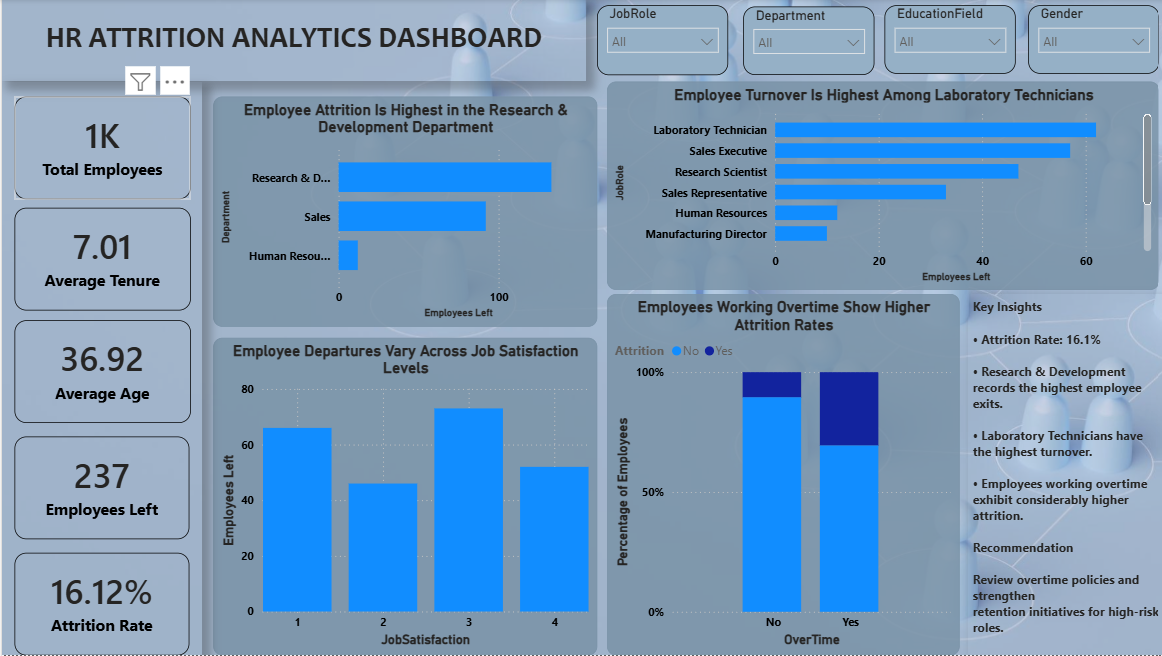

The page's visual inventory and layout, read from the dashboard file:
{"tool":"powerbi","page":{"name":"Page 1","canvas":[1280,720],"ordinal":0},"visuals":[{"type":"image","box":[0,0,1280.3,720.4],"z":0},{"type":"cardVisual","fields":{"Data":["WA_Fn-UseC_-HR-Employee-Attrition.Attrition Rate"]},"box":[13.7,607.9,192.1,112.5],"z":2000},{"type":"textbox","box":[0,0,640.8,90.6],"z":2500},{"type":"clusteredBarChart","title":"Employee Attrition Is Highest in the Research & Development Department","fields":{"Category":["WA_Fn-UseC_-HR-Employee-Attrition.Department"],"Y":["WA_Fn-UseC_-HR-Employee-Attrition.Employees Left"]},"box":[231.9,107,421.3,252.5],"z":3000},{"type":"barChart","title":"Employee Turnover Is Highest Among Laboratory Technicians","fields":{"Category":["WA_Fn-UseC_-HR-Employee-Attrition.JobRole"],"Y":["WA_Fn-UseC_-HR-Employee-Attrition.Employees Left"]},"box":[664.2,90.6,606.5,229.2],"z":4000},{"type":"hundredPercentStackedColumnChart","title":"Employees Working Overtime Show Higher Attrition Rates","fields":{"Category":["WA_Fn-UseC_-HR-Employee-Attrition.OverTime"],"Series":["WA_Fn-UseC_-HR-Employee-Attrition.Attrition"],"Y":["WA_Fn-UseC_-HR-Employee-Attrition.Employee Count"]},"box":[664.2,323.8,387,396.6],"z":5000},{"type":"slicer","fields":{"Values":["WA_Fn-UseC_-HR-Employee-Attrition.Department"]},"box":[813.7,8.2,144.1,75.5],"z":6000},{"type":"slicer","fields":{"Values":["WA_Fn-UseC_-HR-Employee-Attrition.JobRole"]},"box":[653.2,6.9,144.1,76.8],"z":7000},{"type":"slicer","fields":{"Values":["WA_Fn-UseC_-HR-Employee-Attrition.Gender"]},"box":[1126.6,6.9,144.1,75.5],"z":8000},{"type":"slicer","fields":{"Values":["WA_Fn-UseC_-HR-Employee-Attrition.EducationField"]},"box":[968.8,6.9,144.1,75.5],"z":9000},{"type":"clusteredColumnChart","title":"Employee Departures Vary Across Job Satisfaction Levels","fields":{"Category":["WA_Fn-UseC_-HR-Employee-Attrition.JobSatisfaction"],"Y":["WA_Fn-UseC_-HR-Employee-Attrition.Employees Left"]},"box":[231.9,371.9,421.3,348.5],"z":10000},{"type":"shape","box":[0,90.6,219.6,629.8],"z":11000},{"type":"cardVisual","fields":{"Data":["WA_Fn-UseC_-HR-Employee-Attrition.Total Employees"]},"box":[13.7,107,193.5,112.5],"z":12000},{"type":"cardVisual","fields":{"Data":["WA_Fn-UseC_-HR-Employee-Attrition.Average Tenure"]},"box":[13.7,229.2,193.5,112.5],"z":13000},{"type":"cardVisual","fields":{"Data":["WA_Fn-UseC_-HR-Employee-Attrition.Average Age"]},"box":[13.7,352.7,193.5,112.5],"z":14000},{"type":"cardVisual","fields":{"Data":["WA_Fn-UseC_-HR-Employee-Attrition.Employees Left"]},"box":[13.7,480.3,192.1,112.5],"z":15000},{"type":"textbox","box":[1060.7,323.8,219.6,396.6],"z":15001}]}

Visuals, with their boxes in screenshot pixels (x1, y1, x2, y2), scaled from the page's 1280x720 canvas onto the 1162x656 screenshot:
image: (left=0, top=0, right=1161, bottom=655)
cardVisual - WA_Fn-UseC_-HR-Employee-Attrition.Attrition Rate: (left=12, top=554, right=187, bottom=655)
textbox: (left=0, top=0, right=582, bottom=83)
"Employee Attrition Is Highest in the Research & Development Department" clusteredBarChart: (left=211, top=97, right=593, bottom=328)
"Employee Turnover Is Highest Among Laboratory Technicians" barChart: (left=603, top=83, right=1154, bottom=291)
"Employees Working Overtime Show Higher Attrition Rates" hundredPercentStackedColumnChart: (left=603, top=295, right=954, bottom=655)
slicer - WA_Fn-UseC_-HR-Employee-Attrition.Department: (left=739, top=7, right=870, bottom=76)
slicer - WA_Fn-UseC_-HR-Employee-Attrition.JobRole: (left=593, top=6, right=724, bottom=76)
slicer - WA_Fn-UseC_-HR-Employee-Attrition.Gender: (left=1023, top=6, right=1154, bottom=75)
slicer - WA_Fn-UseC_-HR-Employee-Attrition.EducationField: (left=879, top=6, right=1010, bottom=75)
"Employee Departures Vary Across Job Satisfaction Levels" clusteredColumnChart: (left=211, top=339, right=593, bottom=655)
shape: (left=0, top=83, right=199, bottom=655)
cardVisual - WA_Fn-UseC_-HR-Employee-Attrition.Total Employees: (left=12, top=97, right=188, bottom=200)
cardVisual - WA_Fn-UseC_-HR-Employee-Attrition.Average Tenure: (left=12, top=209, right=188, bottom=311)
cardVisual - WA_Fn-UseC_-HR-Employee-Attrition.Average Age: (left=12, top=321, right=188, bottom=424)
cardVisual - WA_Fn-UseC_-HR-Employee-Attrition.Employees Left: (left=12, top=438, right=187, bottom=540)
textbox: (left=963, top=295, right=1161, bottom=655)
